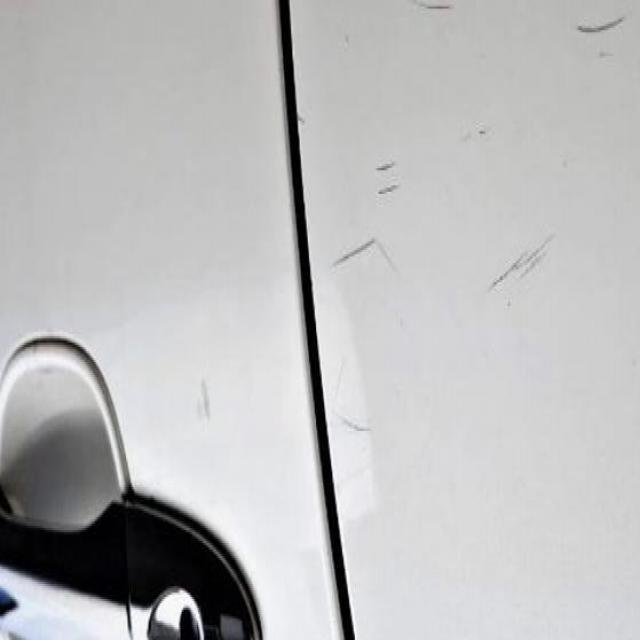scratch: (480, 213, 563, 315), (326, 228, 394, 284), (370, 142, 410, 220), (569, 0, 631, 47)
